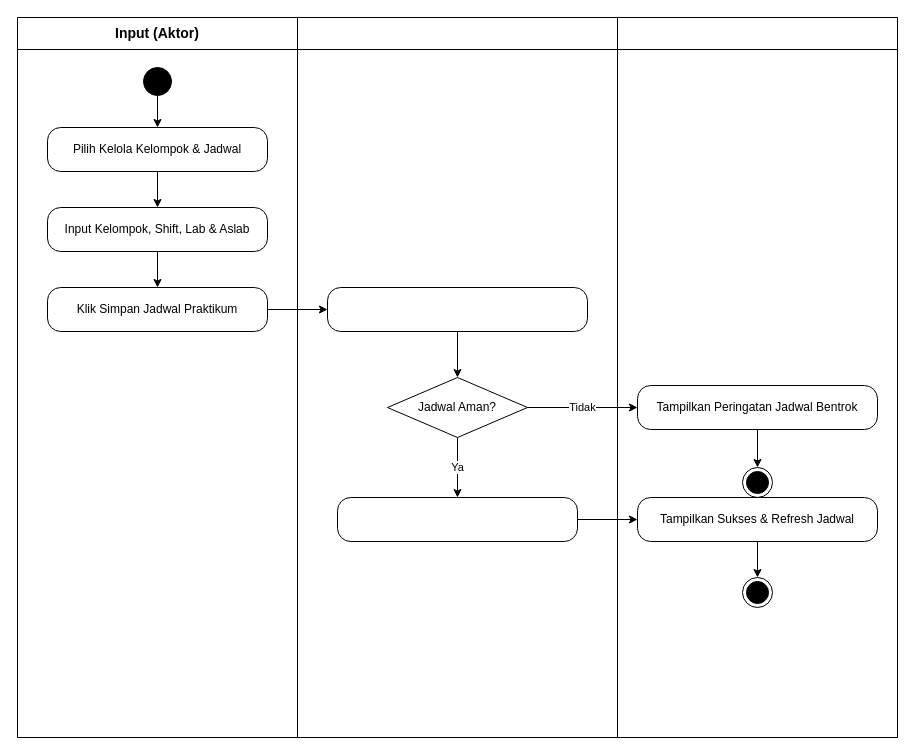
Image size: 915x755. Some labels were removed from this diagram. Here are the shapes that lost their labels. From the top down, the box of each, then its label:
(326, 286, 588, 332): Validasi Form & Cek Bentrok Jadwal Lab / Aslab
(296, 16, 618, 738): Proses (Sistem/Engine)
(616, 16, 898, 738): Output (Dashboard/Layar)
(336, 496, 578, 542): Simpan Record Kelompok & Jadwal
